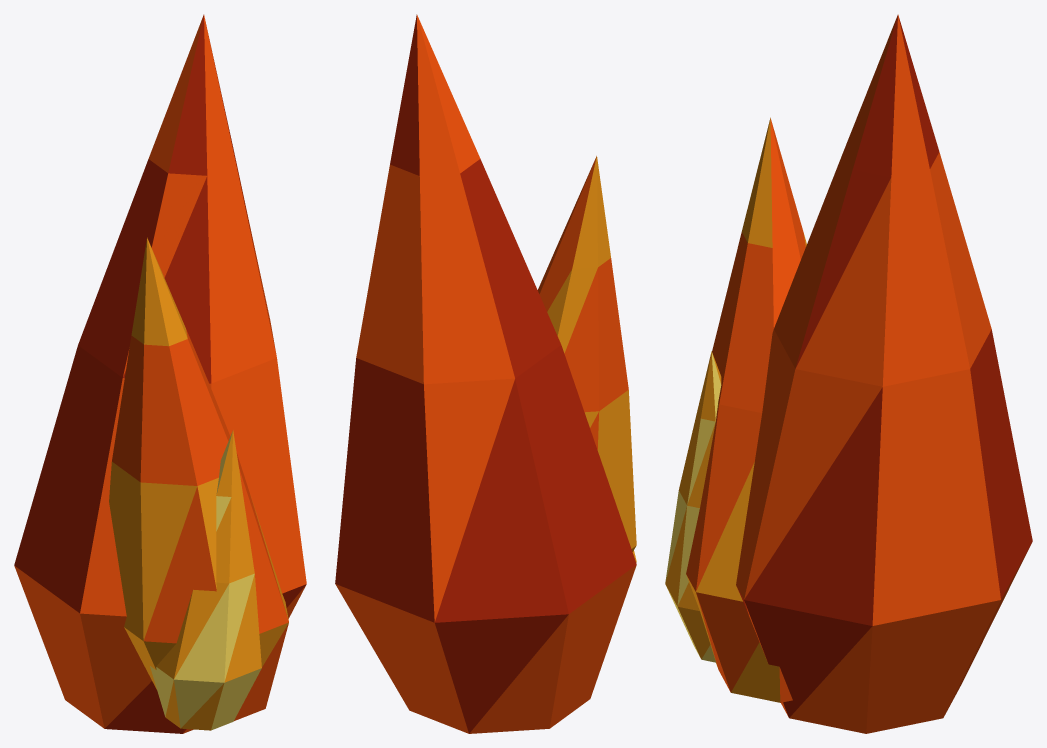
The model's file is TorchFlame.fbx.
3 renders of one model, left to right at view 1: azimuth 30°, elevation 25°; view 2: azimuth 150°, elevation 25°; view 3: azimuth 270°, elevation 25°, orthographic. The views are drawn at different scales.
Parts seen in each view (by area): view 1: TorchFlame; view 2: TorchFlame; view 3: TorchFlame.
Part boxes in pixels (x1=…): TorchFlame: x1=14, y1=14, x2=306, y2=733; TorchFlame: x1=335, y1=14, x2=636, y2=733; TorchFlame: x1=665, y1=14, x2=1032, y2=733.
Size of the model in its own units: 0.1274 by 0.32 by 0.1499.
1 material, 1 textured.
